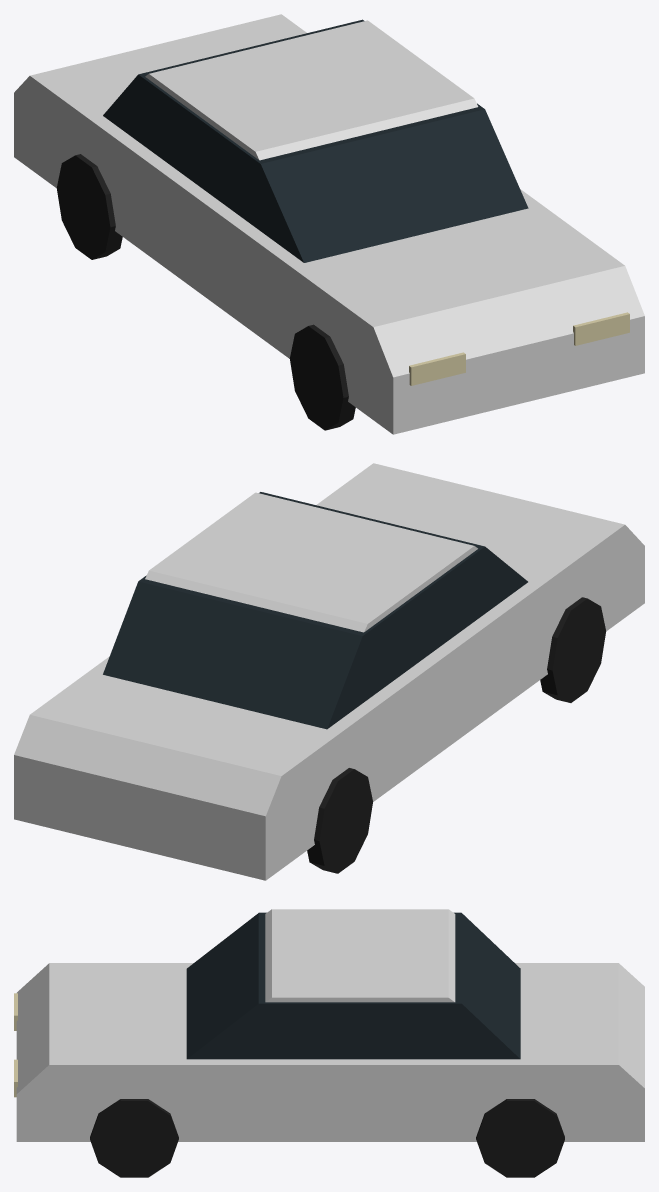
Rendered from car.glb.
3 renders of one model, top to bottom at view 1: azimuth 30°, elevation 25°; view 2: azimuth 150°, elevation 25°; view 3: azimuth 270°, elevation 25°, orthographic. The views are drawn at different scales.
Parts seen in each view (by area): view 1: car; view 2: car; view 3: car.
Boxes of the visible parts, x1,y1,x2,y2 form: car: (14, 14, 644, 434); car: (14, 463, 644, 880); car: (14, 909, 644, 1177).
Bounding box in the file's own units: 2.3 × 1.73 × 5.78.
